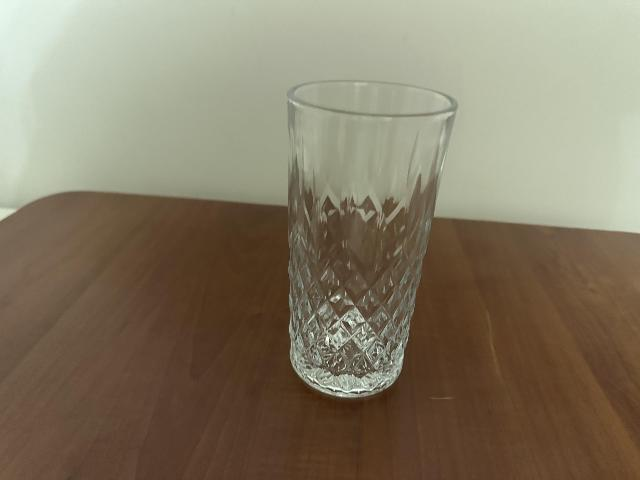Cam: (278, 70, 449, 398)
